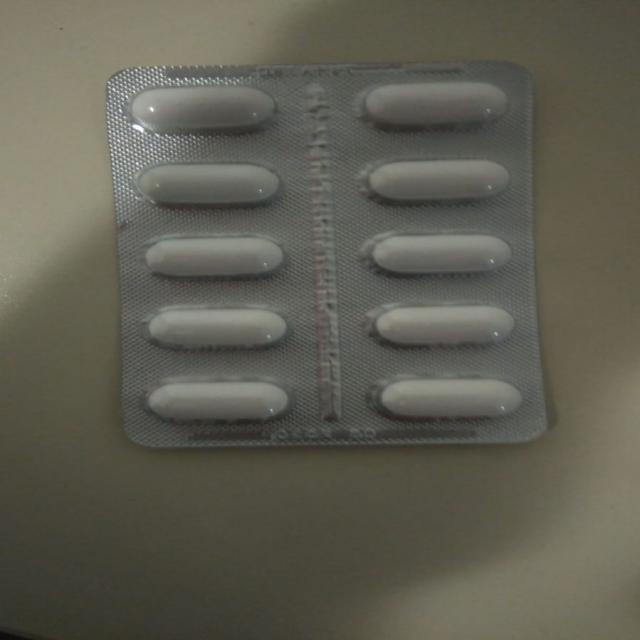Pill: (358, 366, 536, 434), (328, 152, 532, 210), (346, 73, 532, 136), (114, 80, 297, 140), (124, 156, 302, 216), (342, 296, 534, 351), (135, 372, 304, 430), (349, 227, 527, 281), (138, 299, 306, 356), (126, 228, 289, 286)
